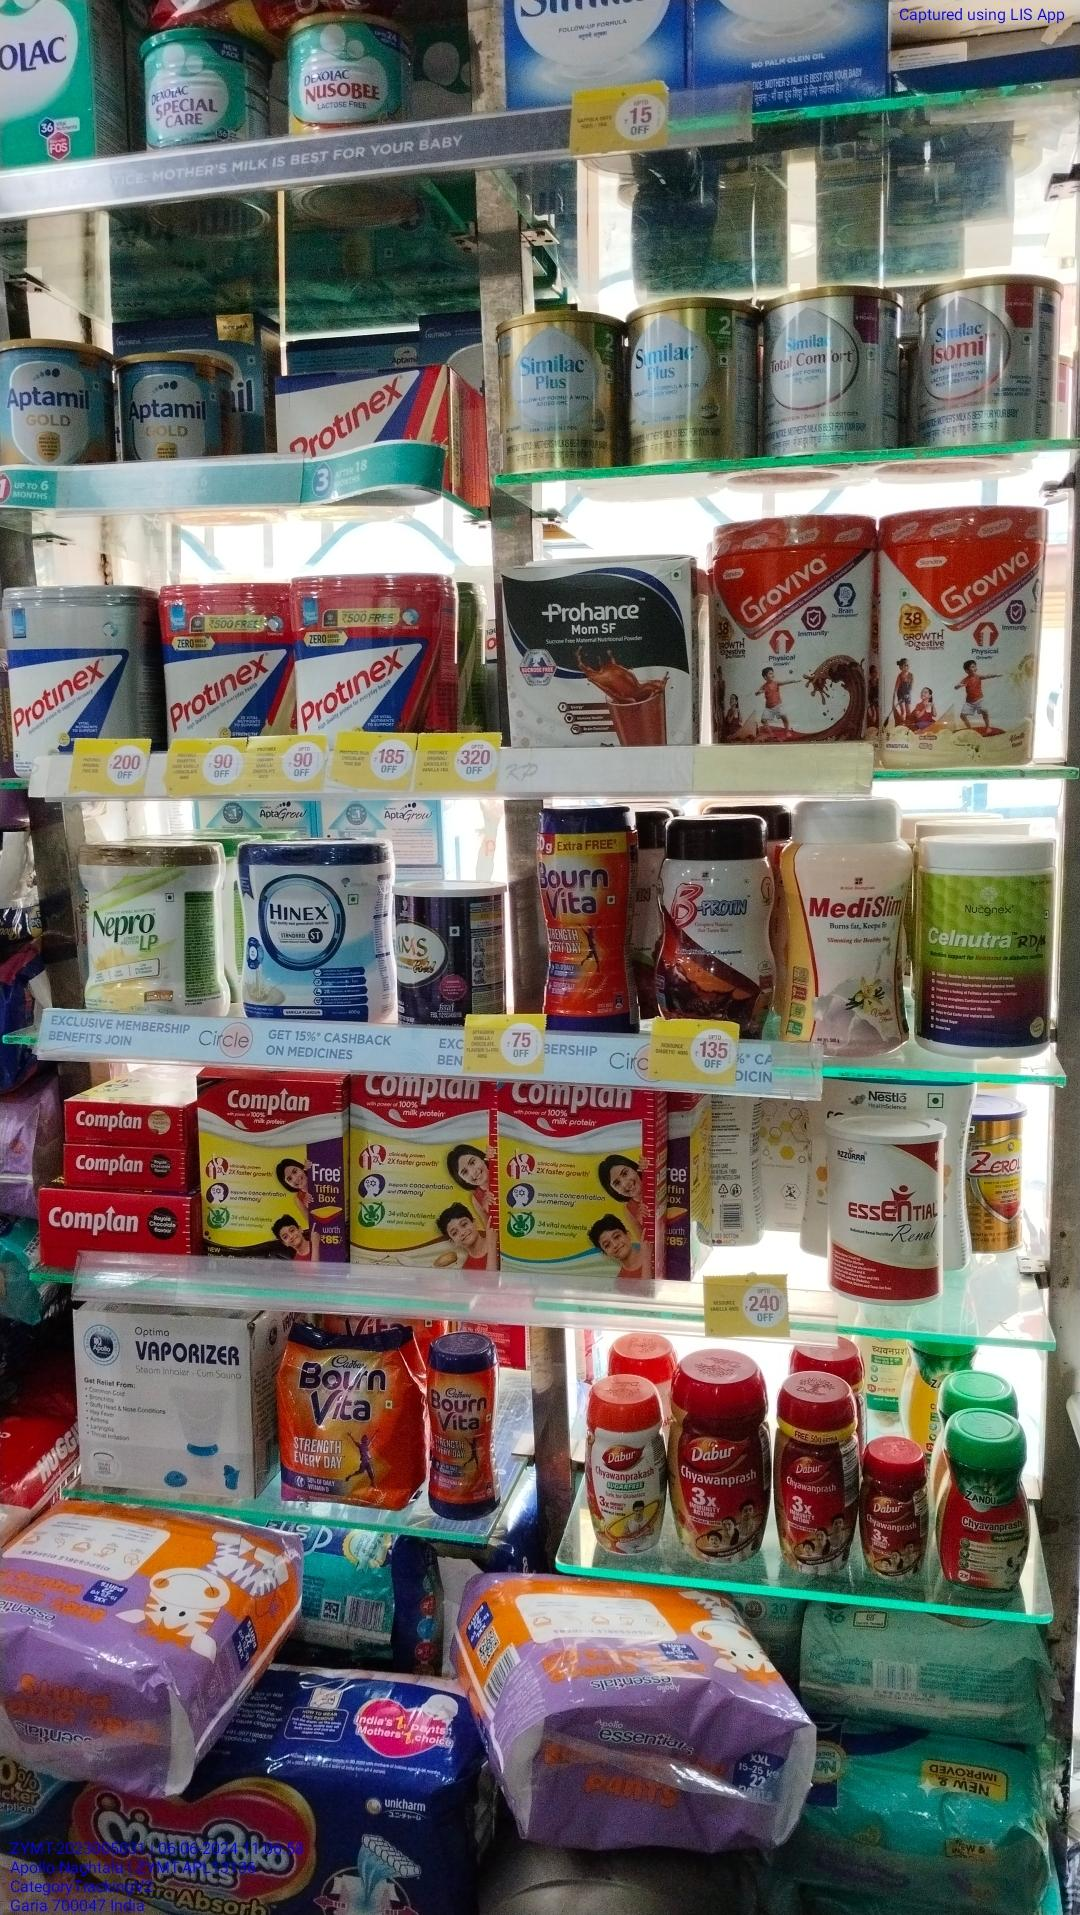PROTINEX_CHOCOLATE_400_G_JAR: (292, 580, 451, 742)
PROTINEX_ORIGINAL_400_G_JAR: (7, 577, 147, 776)
PROTINEX_VANILLA_400_G_JAR: (160, 601, 297, 740)
